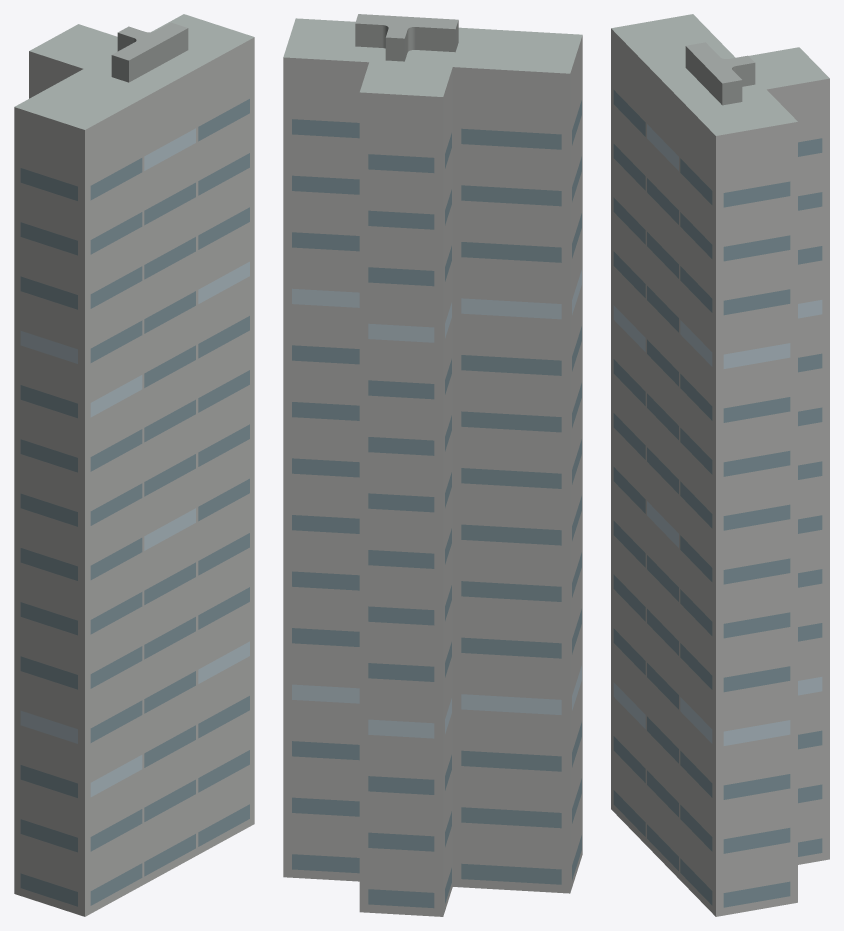
The model's file is fallback-raemian-la-classy-101.glb.
3 renders of one model, left to right at view 1: azimuth 30°, elevation 25°; view 2: azimuth 150°, elevation 25°; view 3: azimuth 270°, elevation 25°, orthographic. The views are drawn at different scales.
Visible parts, largest first — view 1: fallback-raemian-la-classy-101; view 2: fallback-raemian-la-classy-101; view 3: fallback-raemian-la-classy-101.
Boxes of the visible parts, x1,y1,x2,y2 form: fallback-raemian-la-classy-101: [14, 14, 254, 916]; fallback-raemian-la-classy-101: [283, 14, 582, 916]; fallback-raemian-la-classy-101: [611, 14, 829, 916].
Size of the model in its own units: 28.7 by 88 by 21.75.
